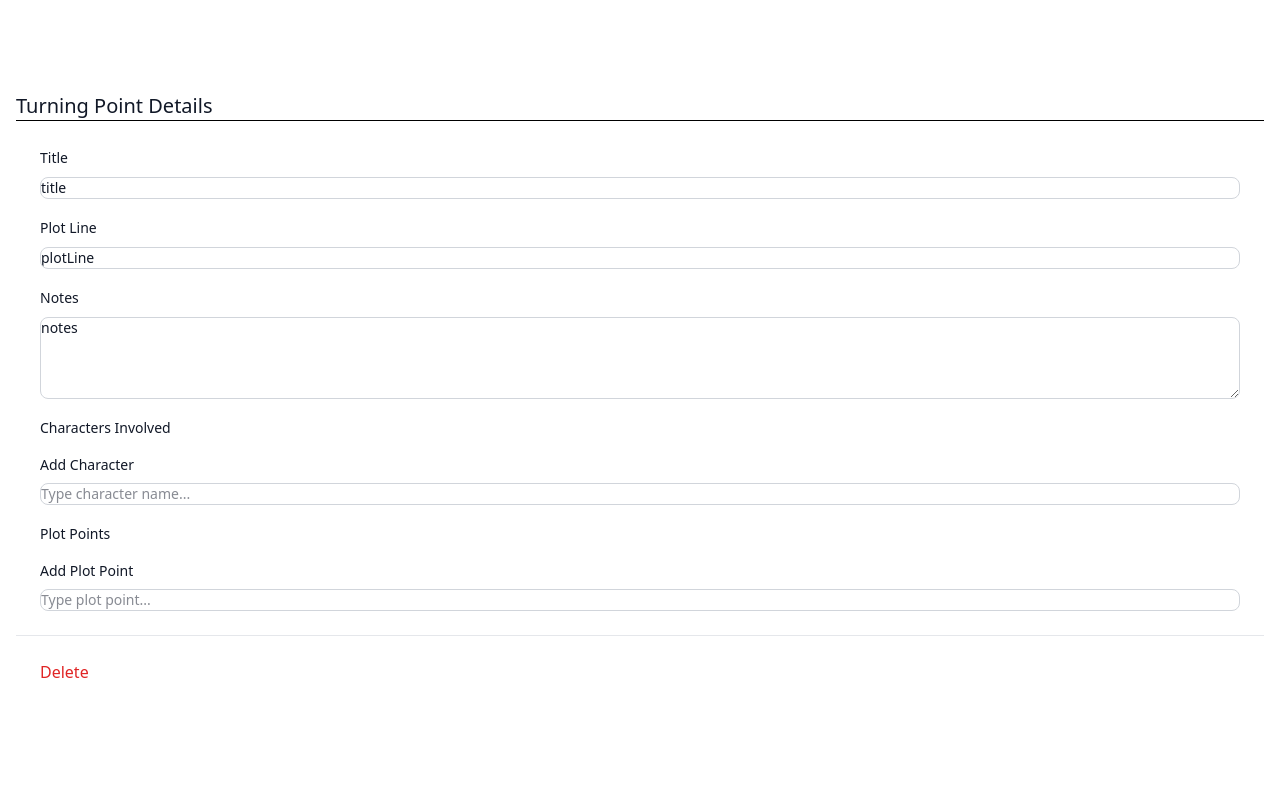
TurningPointModal › Delete Functionality › should close the confirmation dialog when Cancel button is clicked
Click the button with test id "turning-point-delete-button". click: (64, 672)
box: [40,660,89,684]
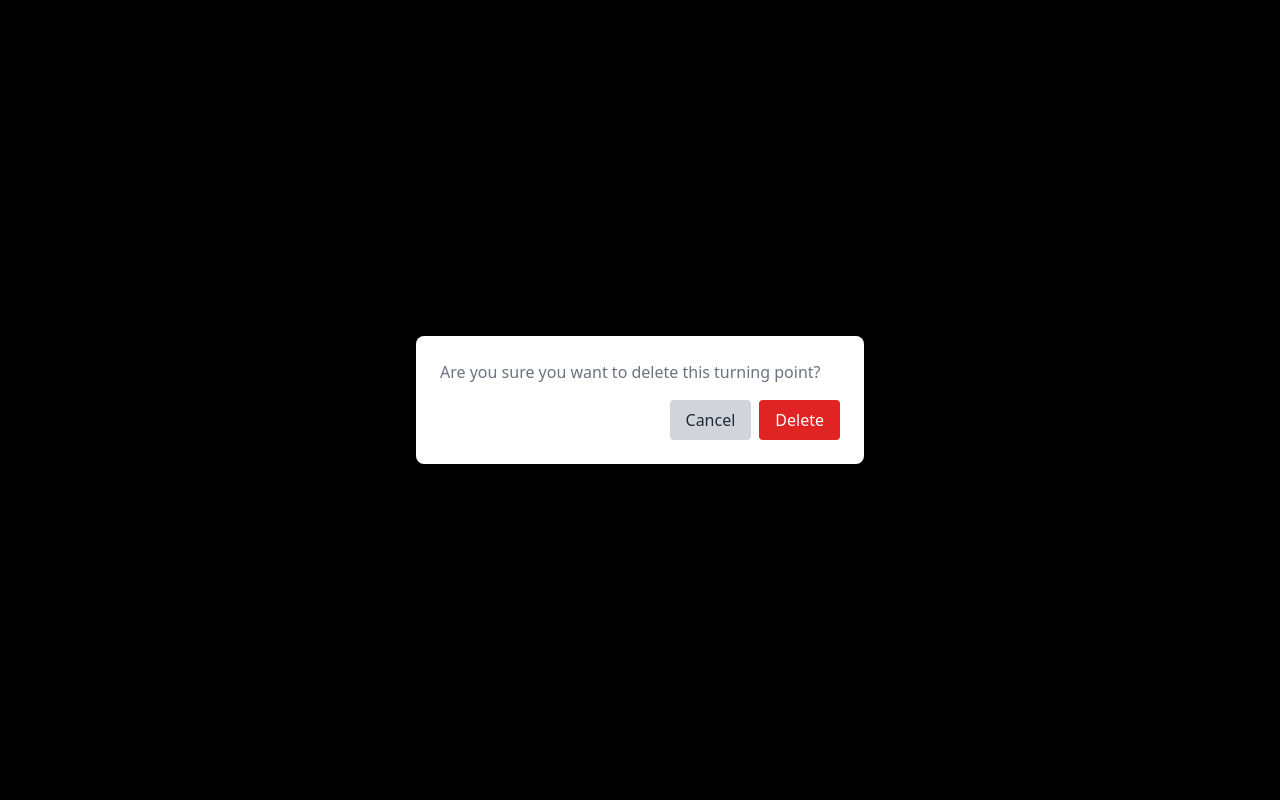
Click the button with test id "delete-cancel-button". click: (710, 420)
box: [670,400,751,440]
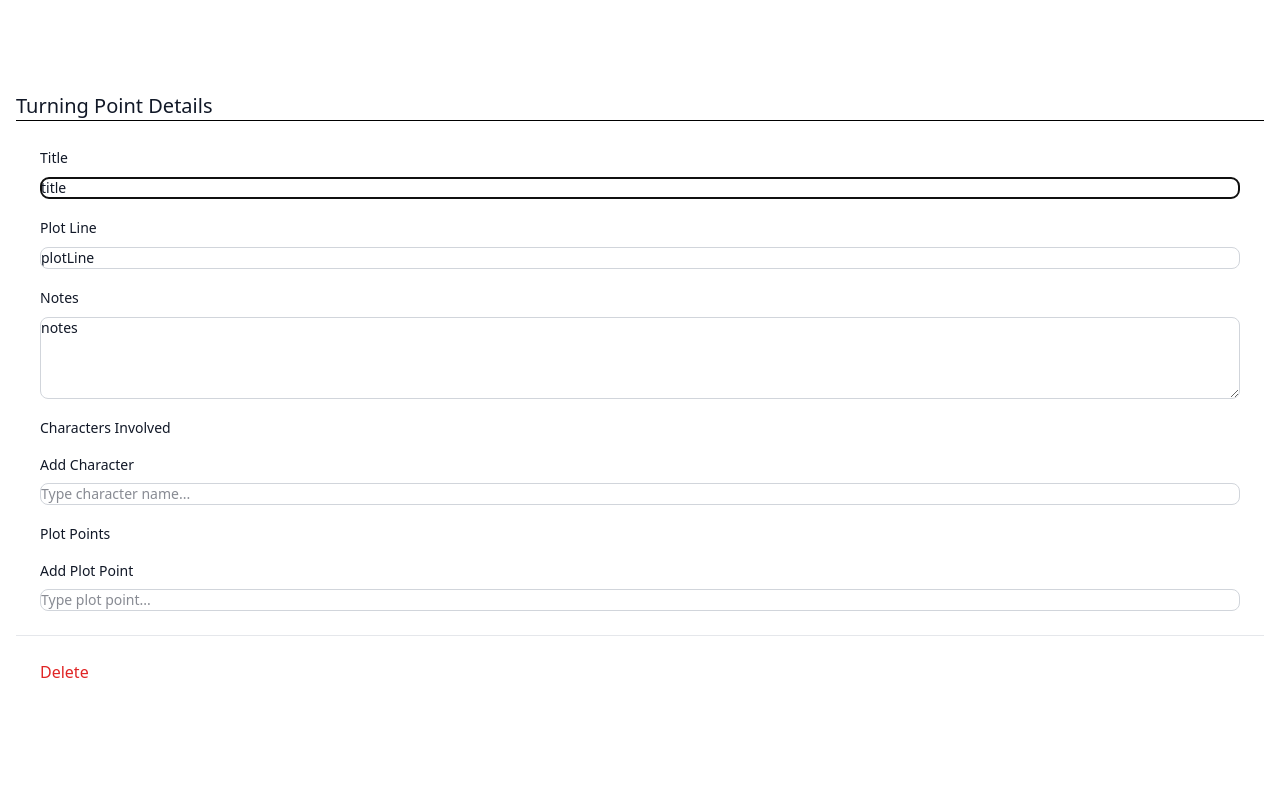
Expected: the dialog with test id "delete-confirmation-dialog" is gone
